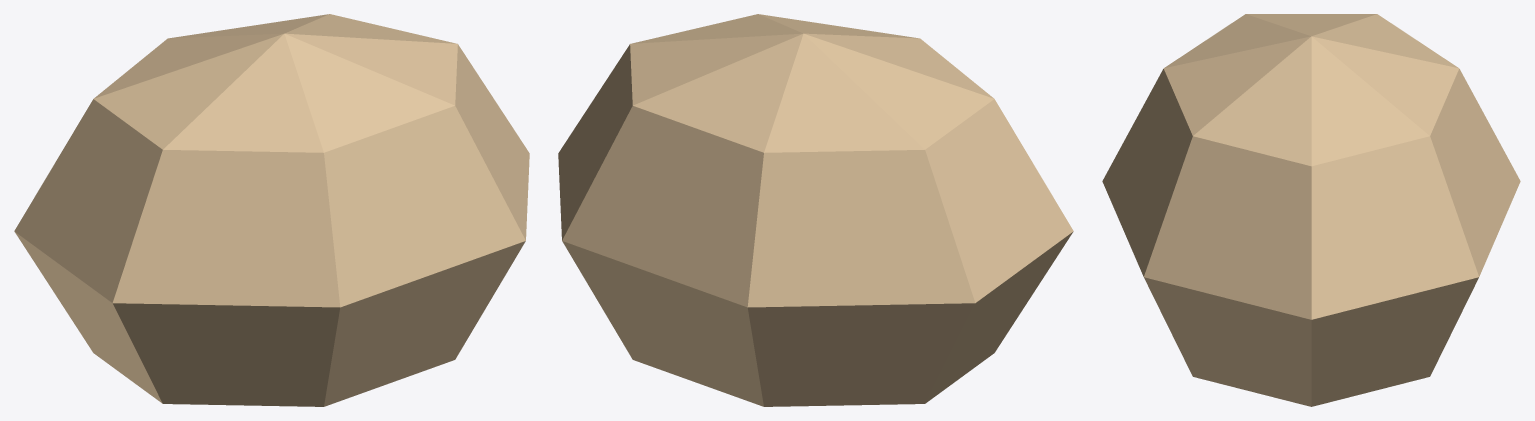
The model's file is sandstone_rock.glb.
3 views of the same model, side by side, from view 1: azimuth 30°, elevation 25°; view 2: azimuth 150°, elevation 25°; view 3: azimuth 270°, elevation 25° (orthographic). The views are drawn at different scales.
Visible parts, largest first — view 1: rock; view 2: rock; view 3: rock.
Boxes of the visible parts, x1=… form: rock: x1=14, y1=14, x2=529, y2=406; rock: x1=558, y1=14, x2=1073, y2=406; rock: x1=1102, y1=14, x2=1520, y2=406.
Bounding box in the file's own units: 1.9 × 1.4 × 1.56.
